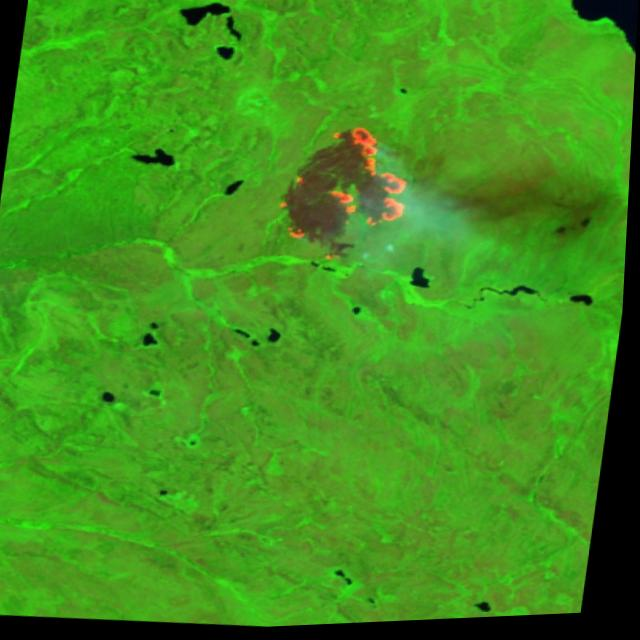fire: (267, 117, 430, 276)
